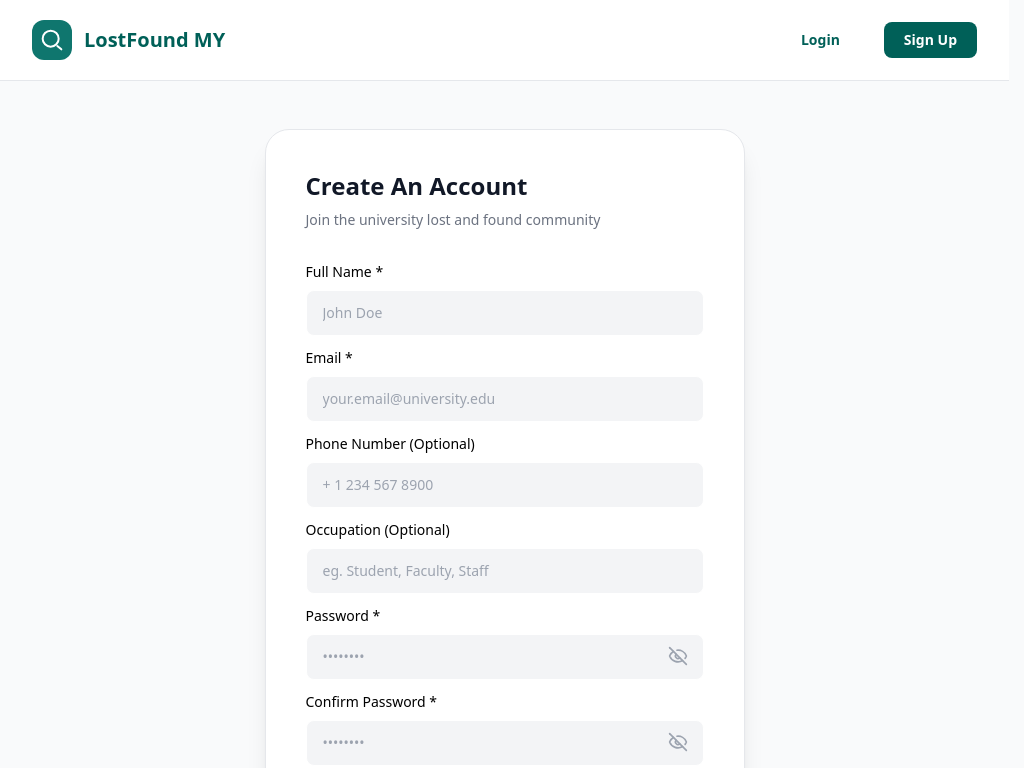
it: Signup Component › shows error when password has no lowercase letter
Type "Test User" into the field with placeholder "John Doe" at (504, 313), box [306, 290, 704, 336]
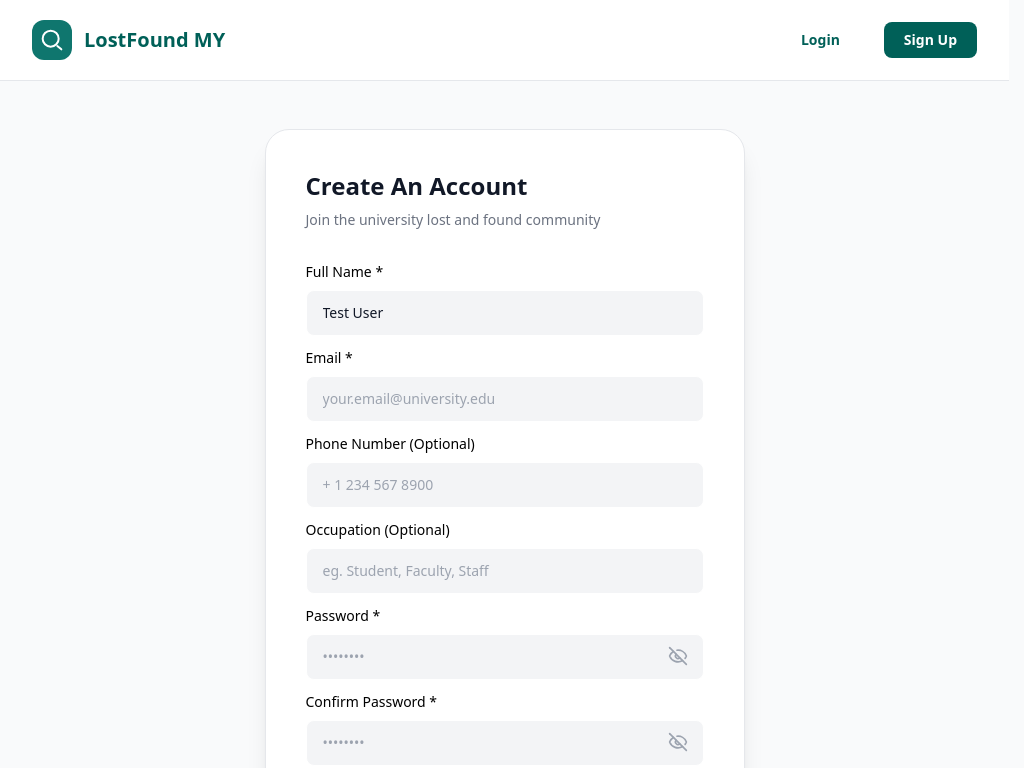
Type "test@example.com" into the field with placeholder "your.email@university.edu" at (504, 399), box [306, 376, 704, 422]
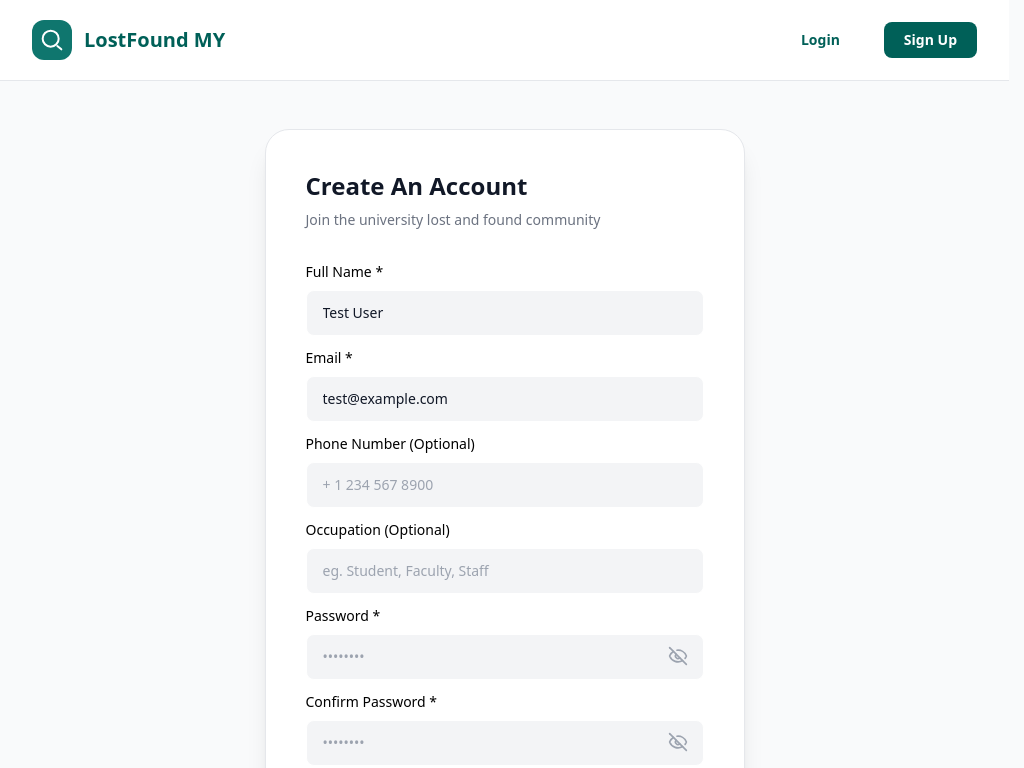
Type "PASSWORD123!" into the 1st password field with placeholder "••••••••" at (504, 657), box [306, 634, 704, 680]
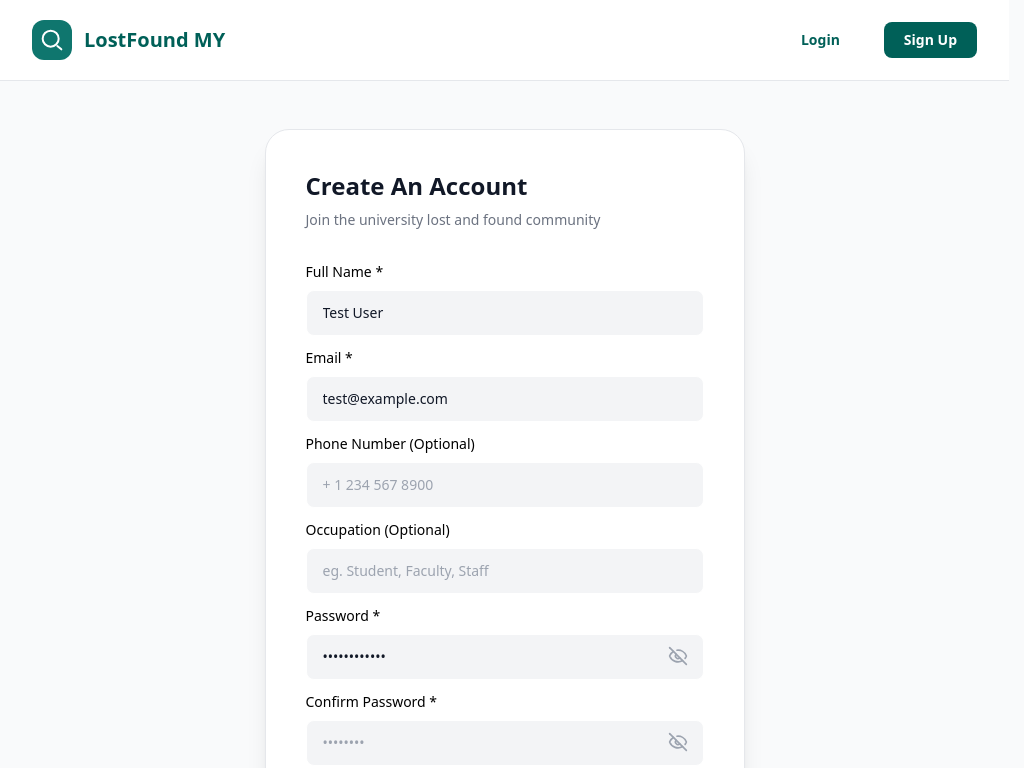
Type "PASSWORD123!" into the password field with placeholder "••••••••" at (504, 743), box [306, 720, 704, 766]
(page scrolled)
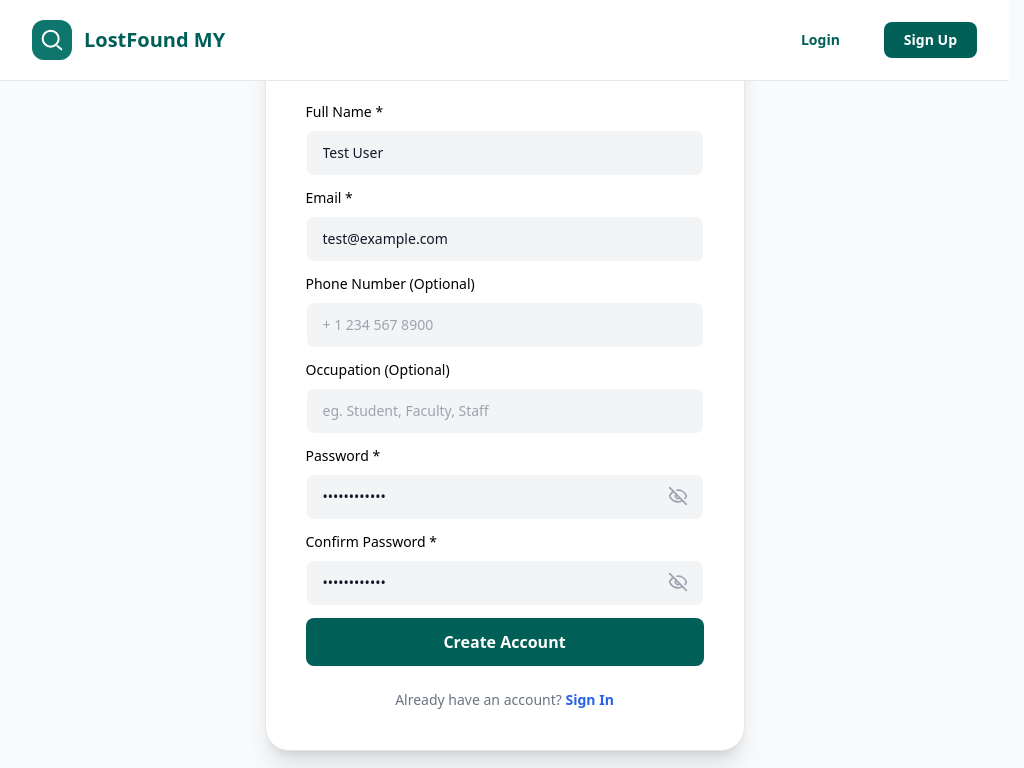
Submit the form named "create account", box [306, 102, 704, 666]
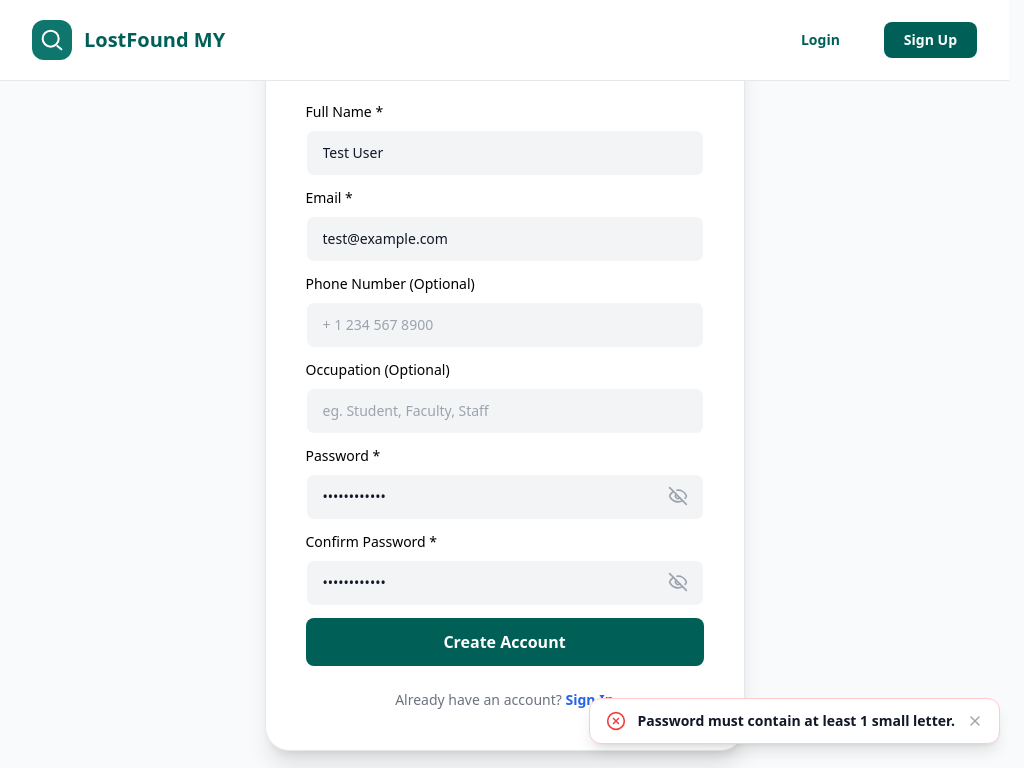
Expected: the text "Password must contain at least 1 small letter." is shown, [638, 711, 955, 731]
